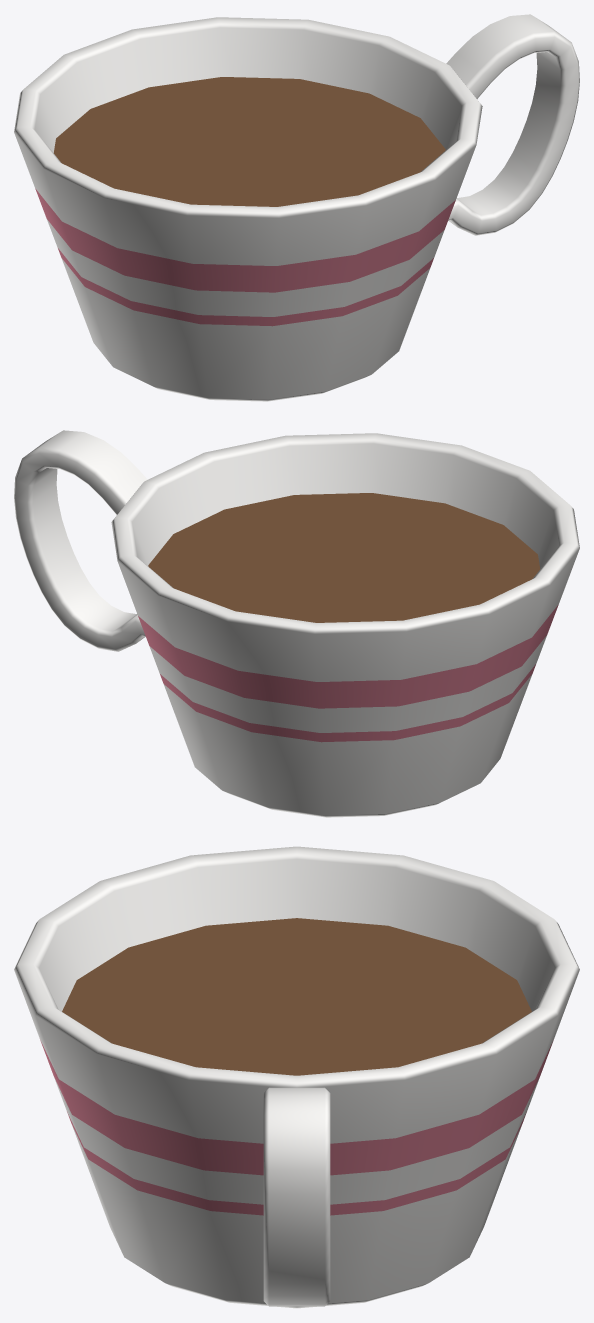
File: Cup_9.glb
3 renders of one model, top to bottom at view 1: azimuth 30°, elevation 25°; view 2: azimuth 150°, elevation 25°; view 3: azimuth 270°, elevation 25°, orthographic. The views are drawn at different scales.
Parts seen in each view (by area): view 1: Cup_9; view 2: Cup_9; view 3: Cup_9.
Boxes of the visible parts, x1=… form: Cup_9: x1=14, y1=14, x2=579, y2=401; Cup_9: x1=14, y1=430, x2=579, y2=817; Cup_9: x1=14, y1=846, x2=579, y2=1308.
Bounding box in the file's own units: 0.2072 × 0.0939 × 0.1617.
1 material, 1 textured.
